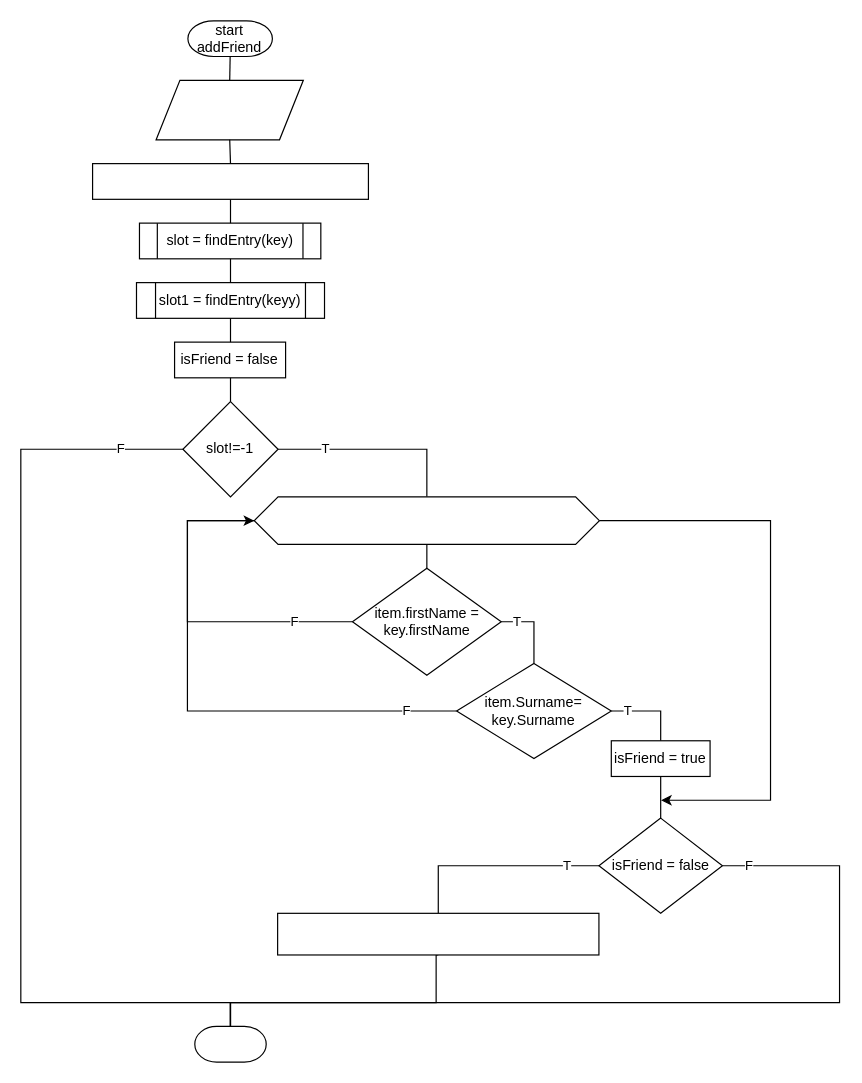
Some shapes in this 862 by 1083 pixel diagram are drawn without their labels. Here are the shapes that lost their labels. From the top down, the centre of each, then its label:
point (229, 109): Key keyy string firstName, surname
point (229, 180): Key key= new Key(firstName, surname)
point (426, 520): i=0, i<hashtable.table[slot1].value.friends.Count, i++
point (437, 933): hashtable.table[slot1].value.friends.AddLast(key)
point (230, 1043): end
